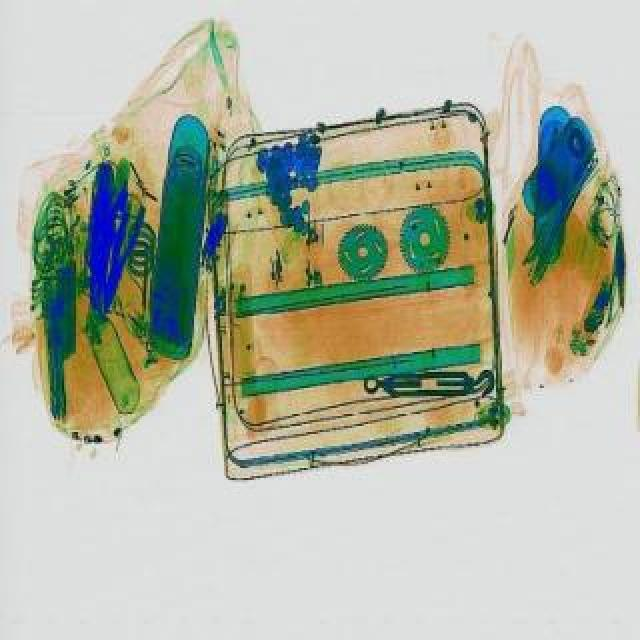wrench: (92, 202, 148, 310)
